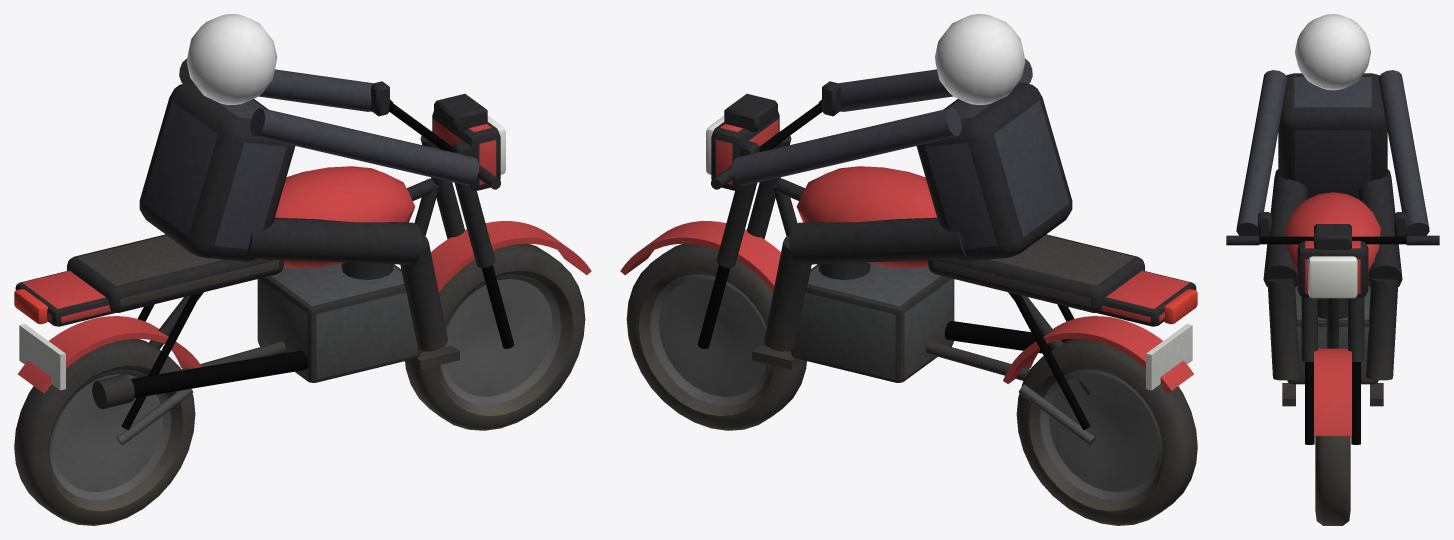
The model's file is moto-urbana.glb.
3 views of the same model, side by side, from view 1: azimuth 30°, elevation 25°; view 2: azimuth 150°, elevation 25°; view 3: azimuth 270°, elevation 25° (orthographic). The views are drawn at different scales.
Visible parts, largest first — view 1: body, wheel_rr_tire, wheel_fr_tire, wheel_fr_rim, wheel_rr_rim, wheel_rl_tire, taillight_left; view 2: body, wheel_rl_tire, wheel_fl_tire, wheel_rl_rim, wheel_fl_rim, wheel_rr_tire, taillight_left; view 3: body, headlight_left, wheel_fl_tire, wheel_fr_tire.
Boxes of the visible parts, x1,y1,x2,y2 form: body: (15,14,591,445); wheel_rr_tire: (20,340,195,525); wheel_fr_tire: (410,244,585,430); wheel_fr_rim: (443,279,552,396); wheel_rr_rim: (53,374,162,491); wheel_rl_tire: (14,339,160,506); taillight_left: (14,289,47,324); body: (620,14,1196,445); wheel_rl_tire: (1016,340,1191,525); wheel_fl_tire: (626,244,801,430); wheel_rl_rim: (1049,374,1158,491); wheel_fl_rim: (659,279,768,396); wheel_rr_tire: (1051,339,1197,506); taillight_left: (1164,289,1197,324); body: (1226,14,1439,444); headlight_left: (1308,256,1357,298); wheel_fl_tire: (1333,436,1350,525); wheel_fr_tire: (1315,436,1332,525).
Size of what is drawn, in the model's own units: 1.98 by 1.59 by 0.78.
Materials: 5 (5 with a texture image).
